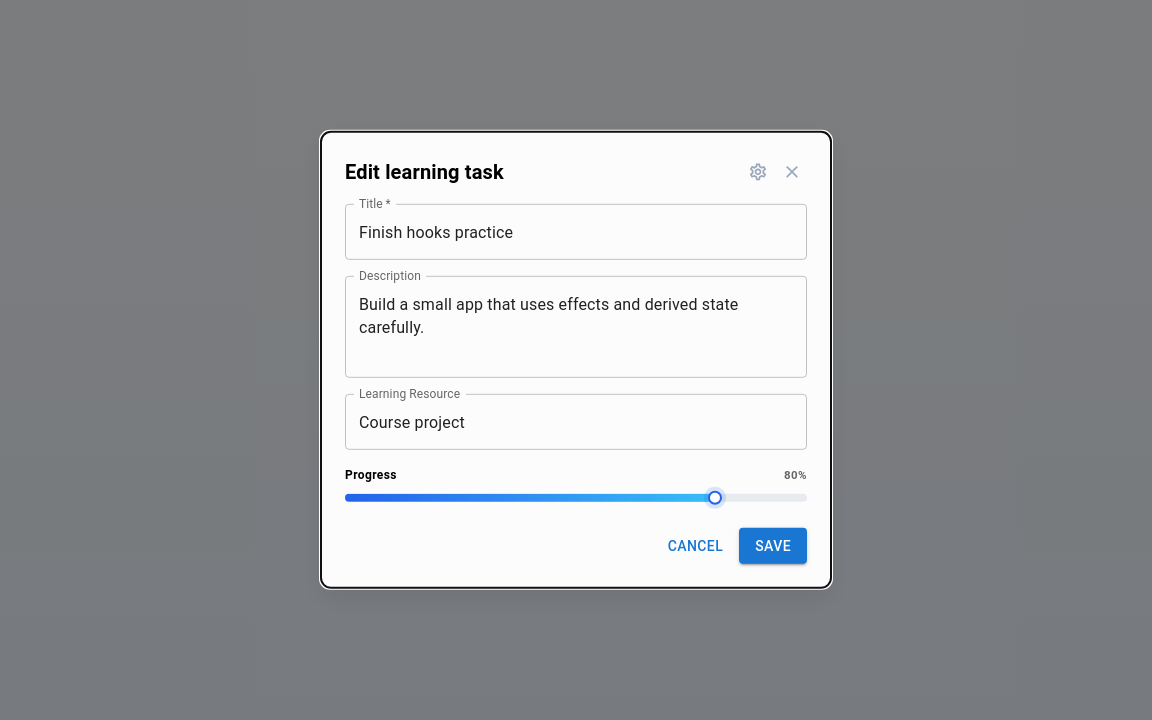
Test case: LearningTaskModal › opens the shared actions menu and starts the delete confirmation flow
Click the button named "task actions for finish hooks practice" at (758,172), box [743,157,773,187]
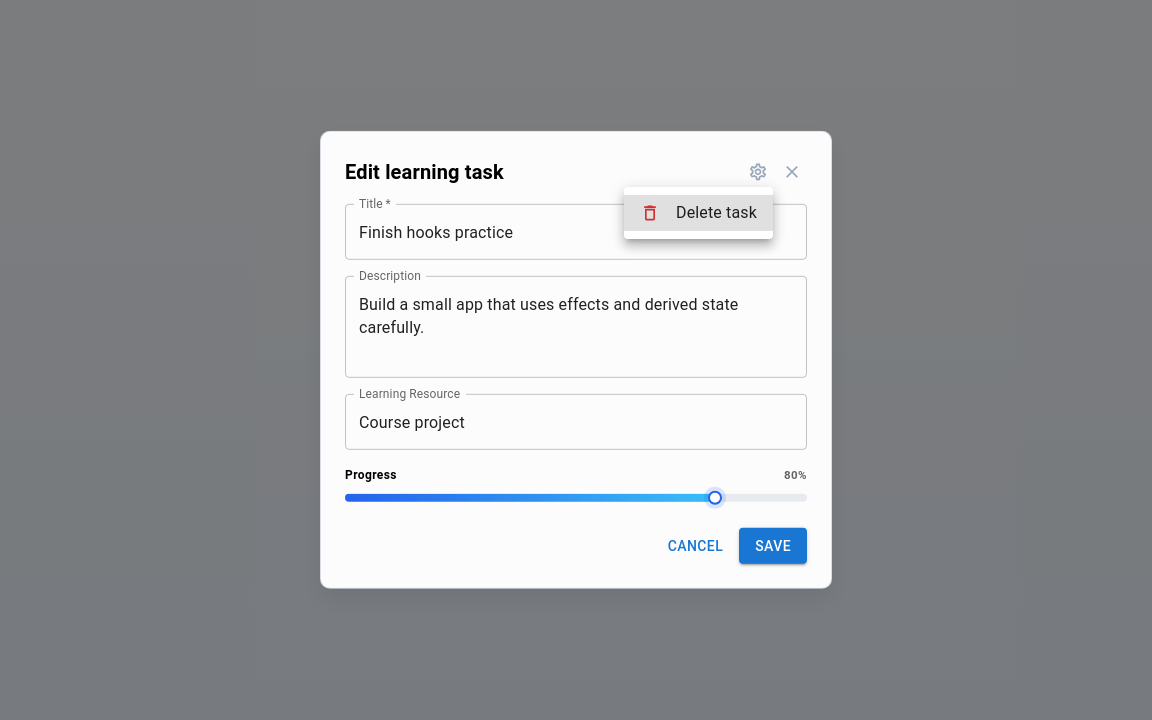
Click the menu item "Delete task" at (698,213), box [624,195,773,231]
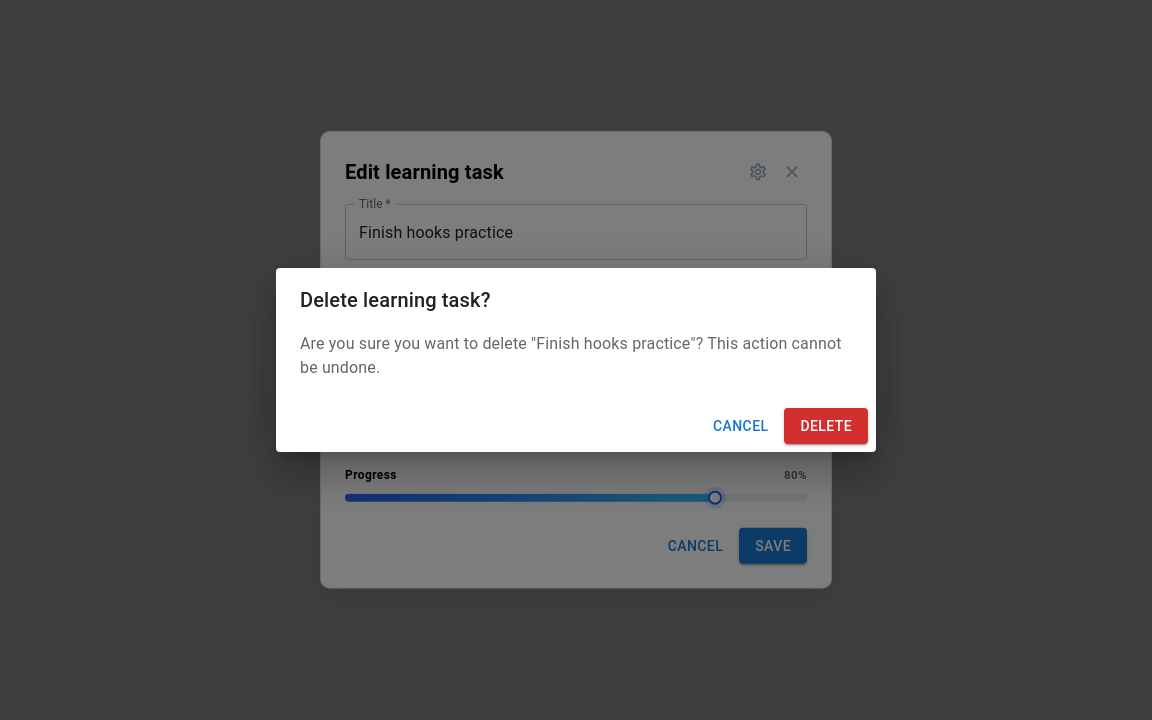
Check: the dialog "Delete learning task?" is shown, box [276,268,876,452]
